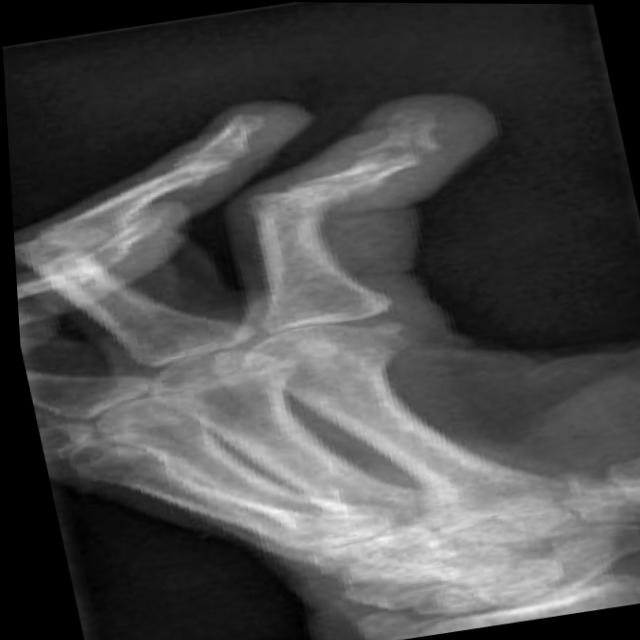fracture: (330, 124, 470, 183)
